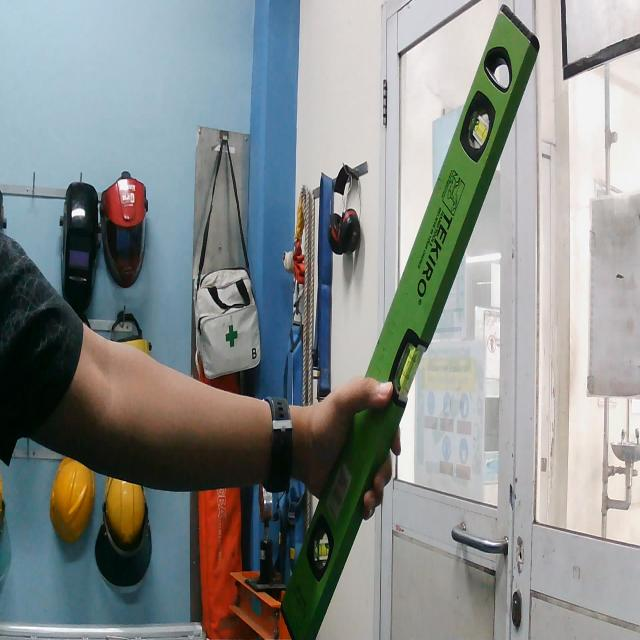water_pass: (278, 0, 543, 639)
